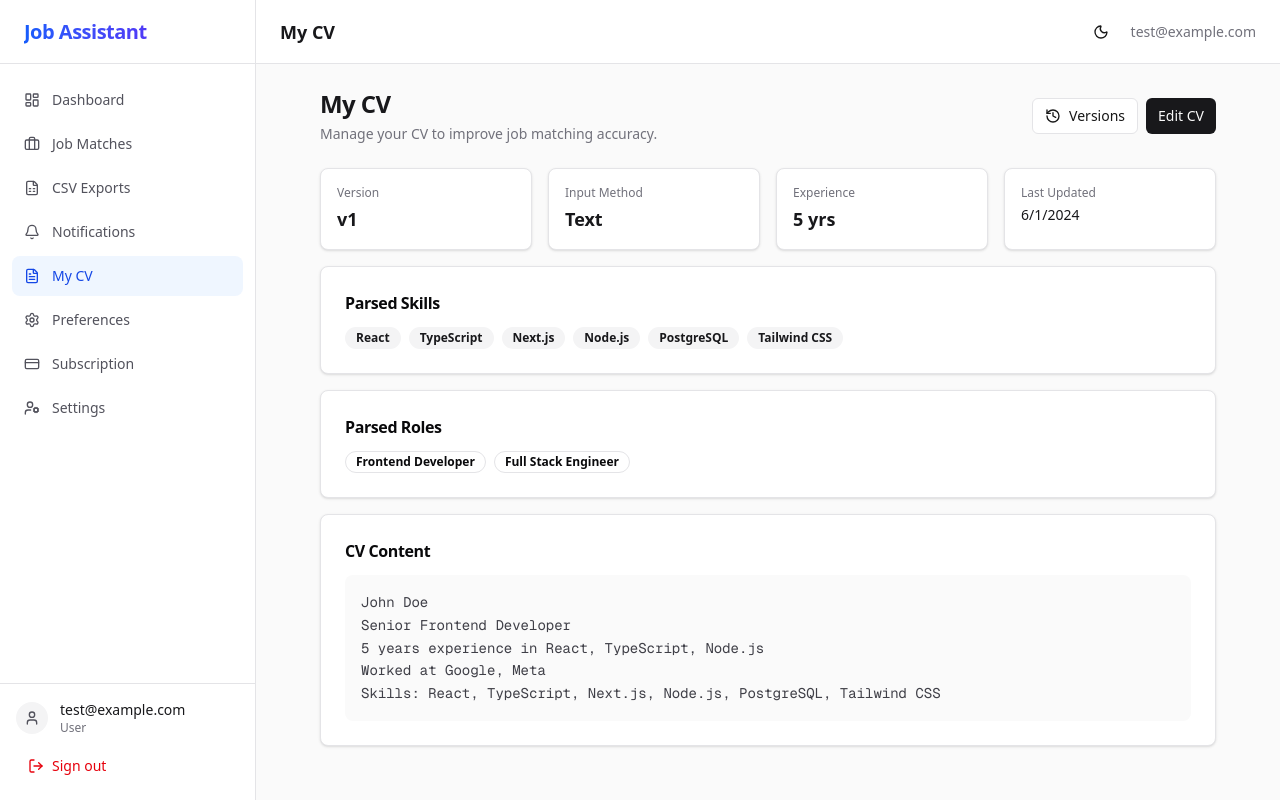
it: CV page › 'Versions' button shows version history
Click the button "Versions". click: click(1085, 116)
box: [1032, 98, 1138, 134]
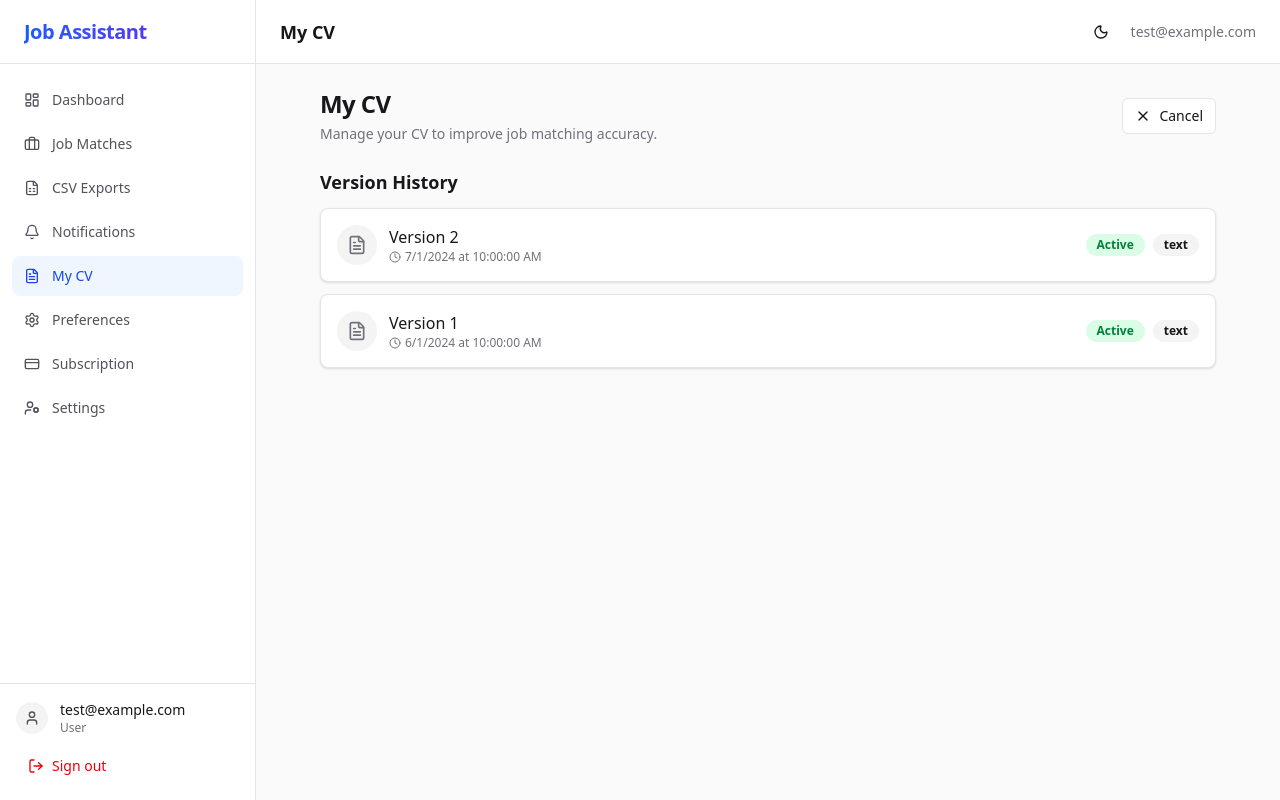
Now the heading "Version History" is shown, box [320, 170, 458, 194]
